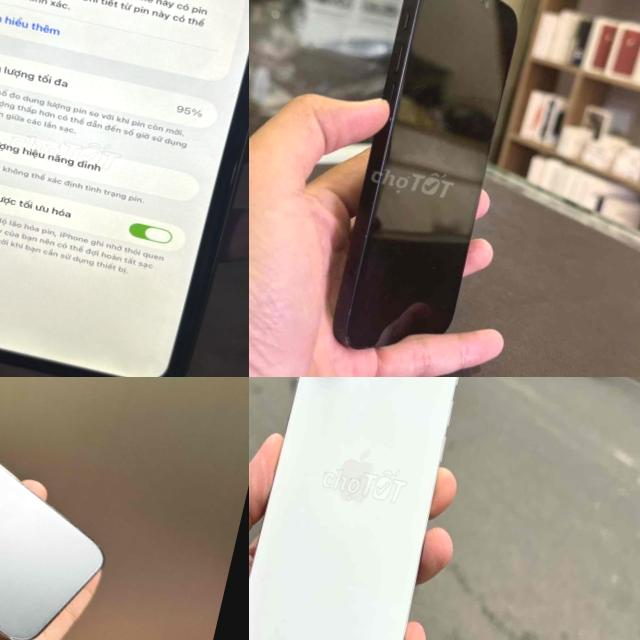gen_11: (0, 0, 249, 377)
gen_12_13: (313, 0, 535, 373), (0, 377, 140, 640)
gen_16: (249, 377, 490, 640)
